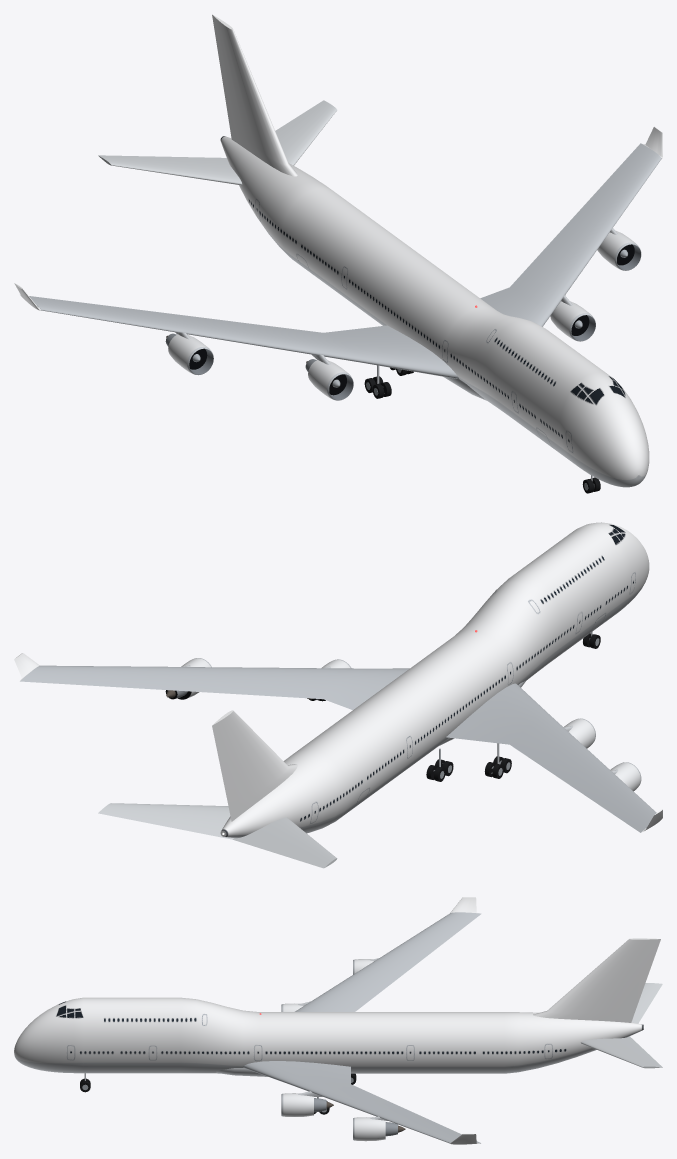
3 renders of one model, top to bottom at view 1: azimuth 30°, elevation 25°; view 2: azimuth 150°, elevation 25°; view 3: azimuth 270°, elevation 25°, orthographic. The views are drawn at different scales.
Parts seen in each view (by area): view 1: body, gear; view 2: body, gear; view 3: body.
Boxes of the visible parts, <box> form: body: <box>14,14,662,487</box>; gear: <box>364,365,600,493</box>; body: <box>14,522,662,868</box>; gear: <box>426,631,600,781</box>; body: <box>14,897,662,1144</box>.
Size of the model in its own units: 62.98 by 18.73 by 72.83.
Materials: 19 (1 with a texture image).
